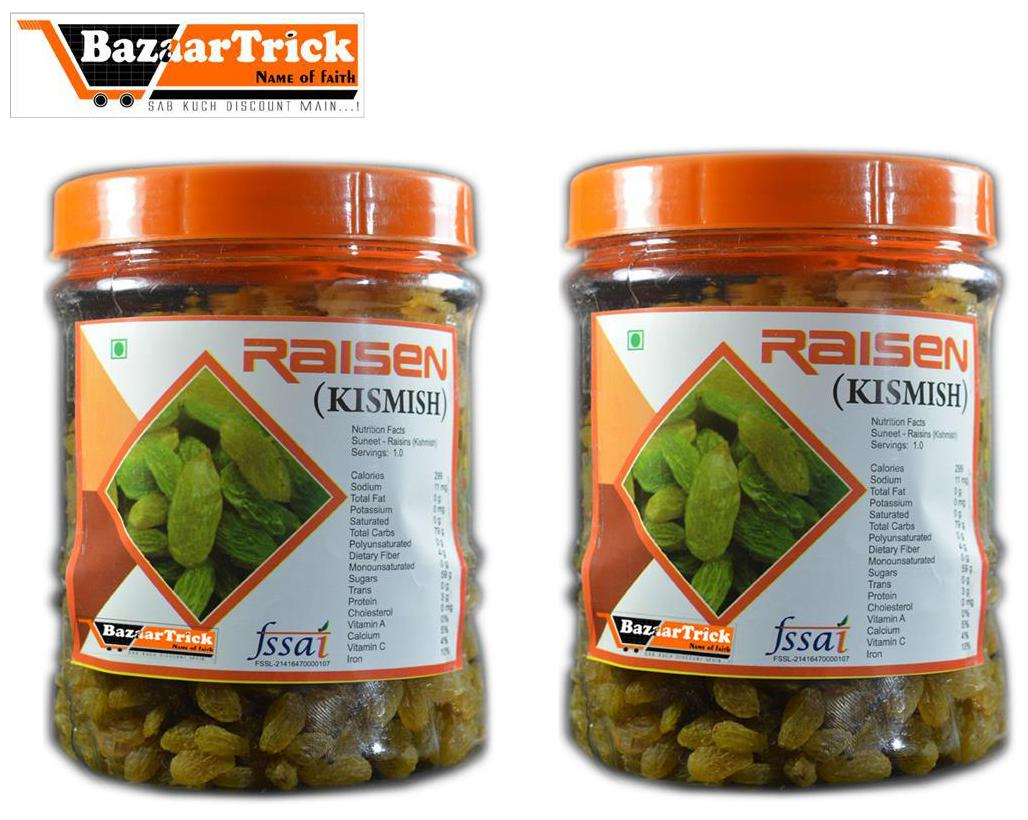JAR: (555, 146, 1018, 795), (37, 156, 495, 797)
